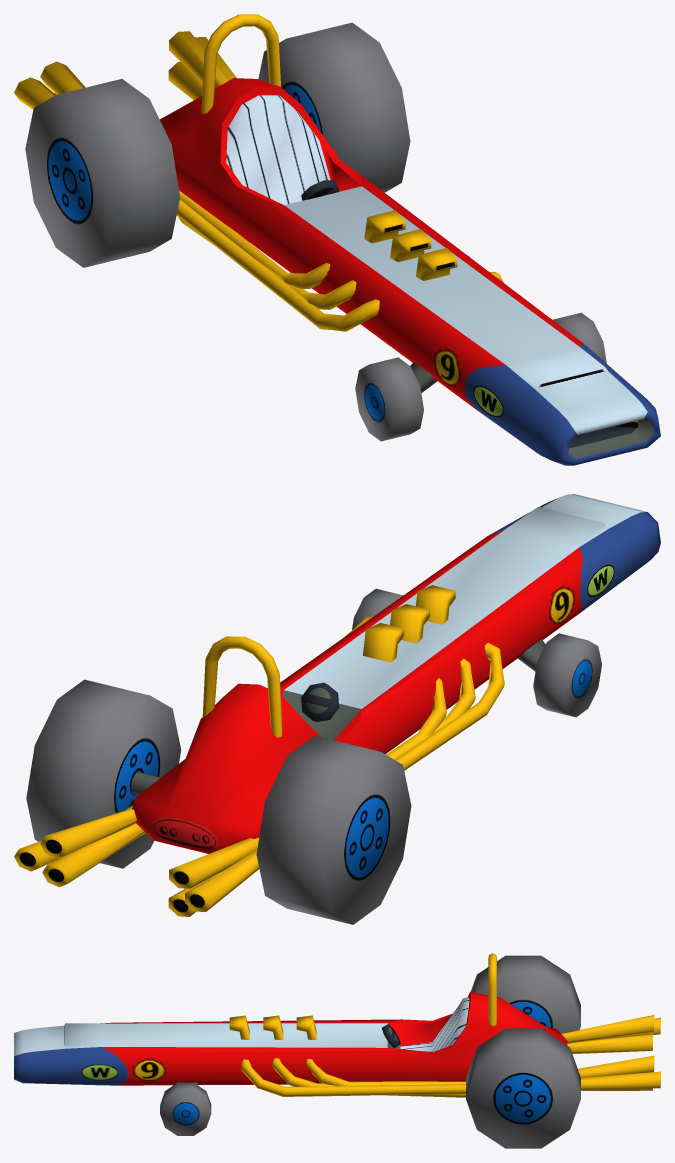
The model's file is TurboTerrific.obj.
The picture shows the model from 3 angles, top to bottom: view 1: azimuth 30°, elevation 25°; view 2: azimuth 150°, elevation 25°; view 3: azimuth 270°, elevation 25°; orthographic projection. The views are drawn at different scales.
Parts seen in each view (by area): view 1: Mesh_0034out, Mesh_0031out, Mesh_0031out.001, Mesh_0032out, Mesh_0032out.001; view 2: Mesh_0034out, Mesh_0031out, Mesh_0031out.001, Mesh_0032out, Mesh_0032out.001; view 3: Mesh_0034out, Mesh_0031out.001, Mesh_0031out, Mesh_0032out.001.
Part boxes in pixels (x1,y1,x2,y2): Mesh_0034out: (14, 14, 660, 465); Mesh_0031out: (25, 79, 180, 267); Mesh_0031out.001: (258, 22, 410, 192); Mesh_0032out: (355, 357, 423, 441); Mesh_0032out.001: (552, 312, 606, 363); Mesh_0034out: (14, 494, 660, 916); Mesh_0031out: (256, 735, 411, 924); Mesh_0031out.001: (26, 679, 181, 868); Mesh_0032out: (533, 633, 601, 717); Mesh_0032out.001: (352, 588, 402, 629); Mesh_0034out: (14, 953, 660, 1097); Mesh_0031out.001: (466, 1028, 580, 1148); Mesh_0031out: (470, 955, 580, 1033); Mesh_0032out.001: (160, 1082, 211, 1135).
Bounding box in the file's own units: 2.79 × 2.02 × 8.12.
3 materials, 3 textured.
